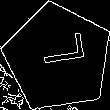L_W: (31, 39, 85, 77)
